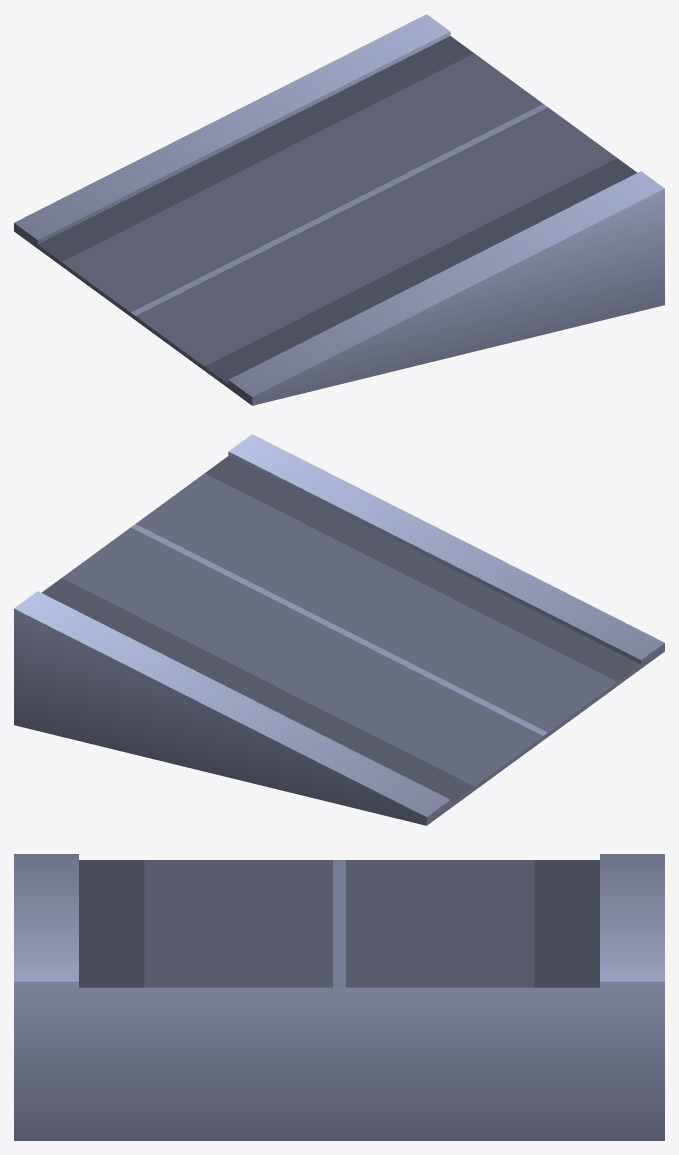
The model's file is road-slant.glb.
3 views of the same model, one above another, from view 1: azimuth 30°, elevation 25°; view 2: azimuth 150°, elevation 25°; view 3: azimuth 270°, elevation 25° (orthographic). The views are drawn at different scales.
Visible parts, largest first — view 1: road-slant; view 2: road-slant; view 3: road-slant.
Boxes of the visible parts, left/top/right/bottom form: road-slant: left=14, top=14, right=664, bottom=405; road-slant: left=14, top=434, right=664, bottom=825; road-slant: left=14, top=854, right=664, bottom=1140.
Bounding box in the file's own units: 1 × 0.2701 × 1.
1 material, 1 textured.
